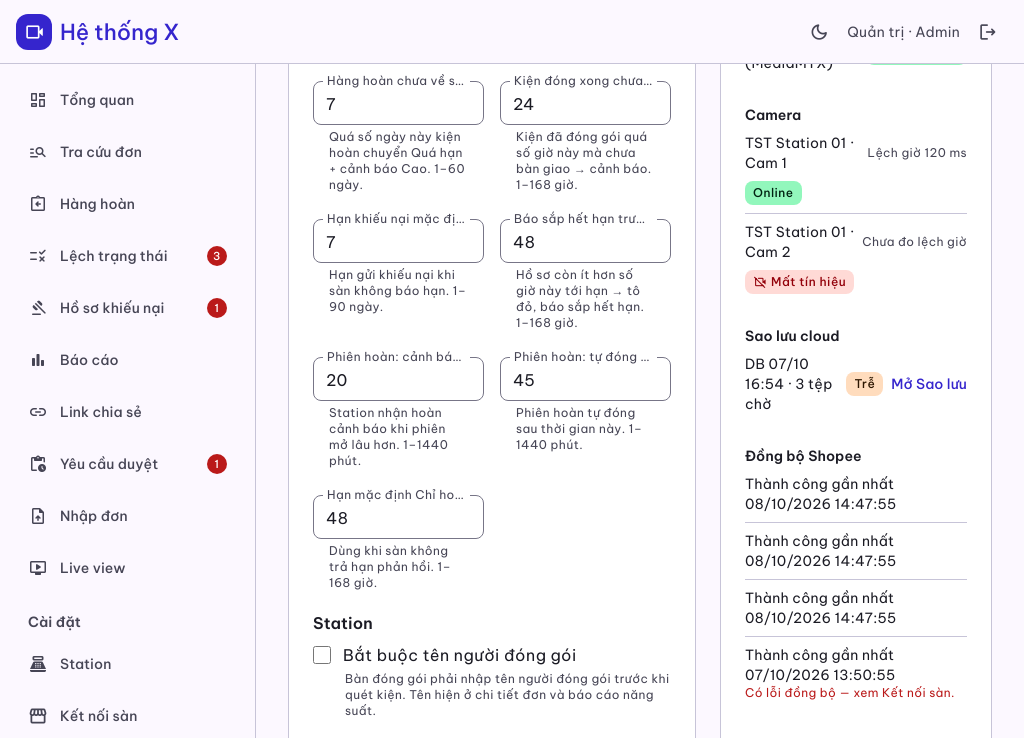
FR-02.15 (D8): dòng 'Sao lưu cloud' — Trễ khi còn lệch mã băm; link Mở Sao lưu → D23
(page scrolled)
Expected: the heading "Sao lưu cloud" is shown, [745,327,840,345]
Expected: the text "DB 07/10 16:54 · 3 tệp chờ" is shown, [745,354,838,414]
Click the link "Mở Sao lưu" at {"x": 929, "y": 384}, box [891,374,967,394]
(page scrolled)
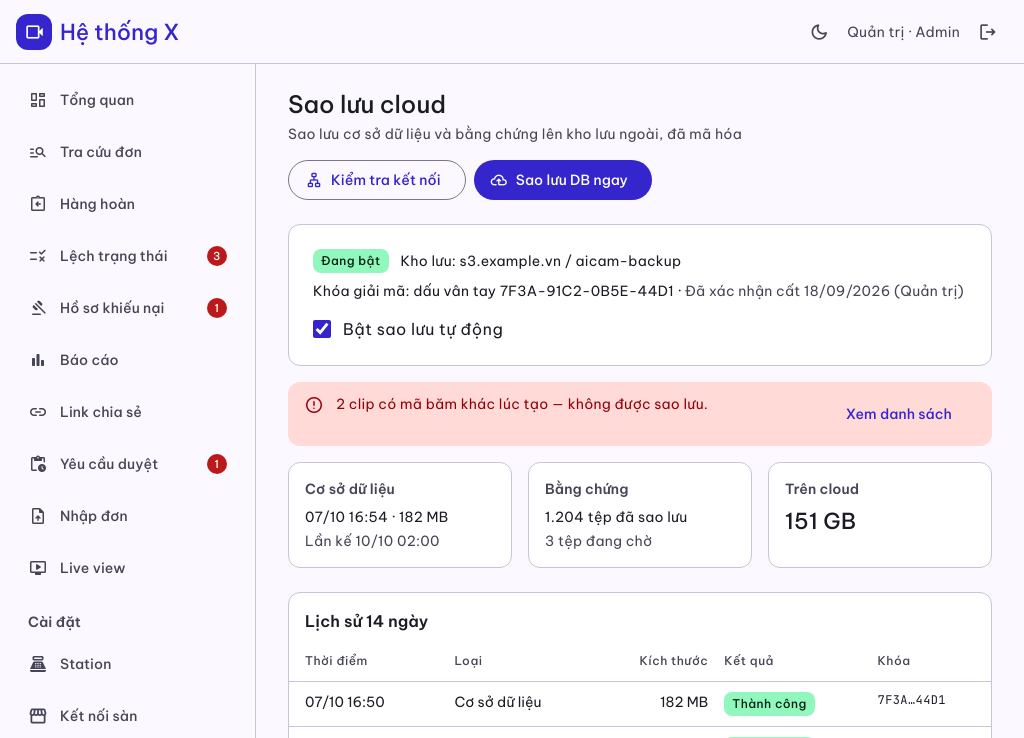
Now the heading "Sao lưu cloud" is shown, box [288,89,446,119]
